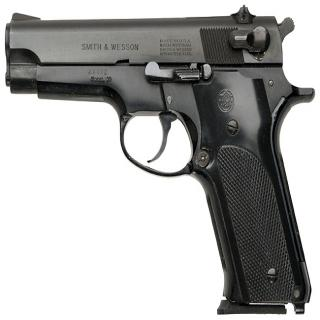gun: (5, 9, 311, 316)
